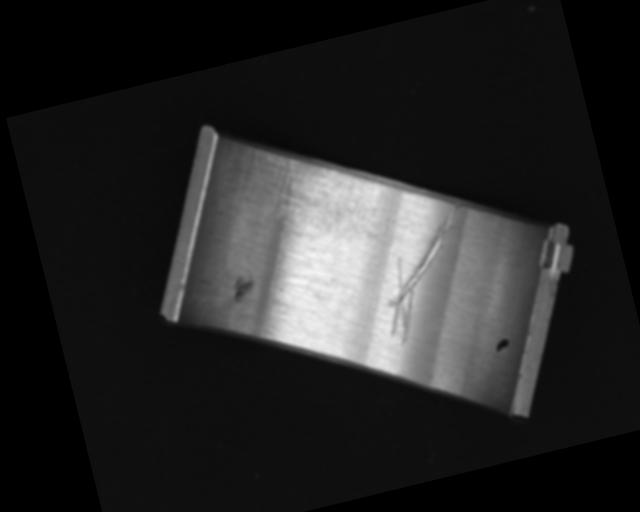blot: (493, 336, 512, 354)
bruise: (227, 274, 256, 303)
nick: (361, 203, 488, 350)
scratch: (249, 130, 370, 244)
